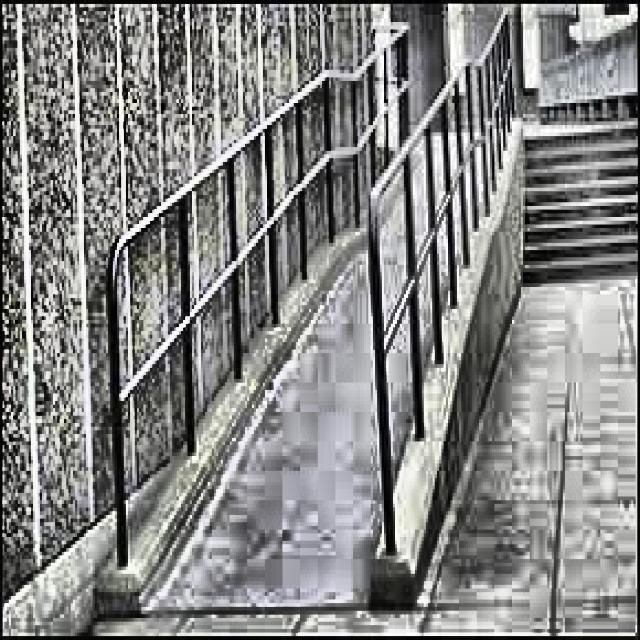escada: (523, 127, 640, 289)
